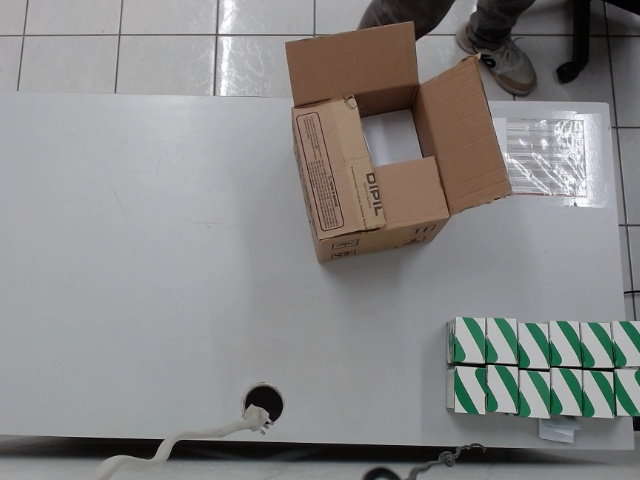caixa_principal: (272, 16, 510, 270)
